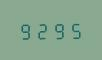five: (66, 19, 81, 39)
nine: (18, 20, 33, 40), (50, 20, 65, 39)
two: (34, 20, 49, 40)
